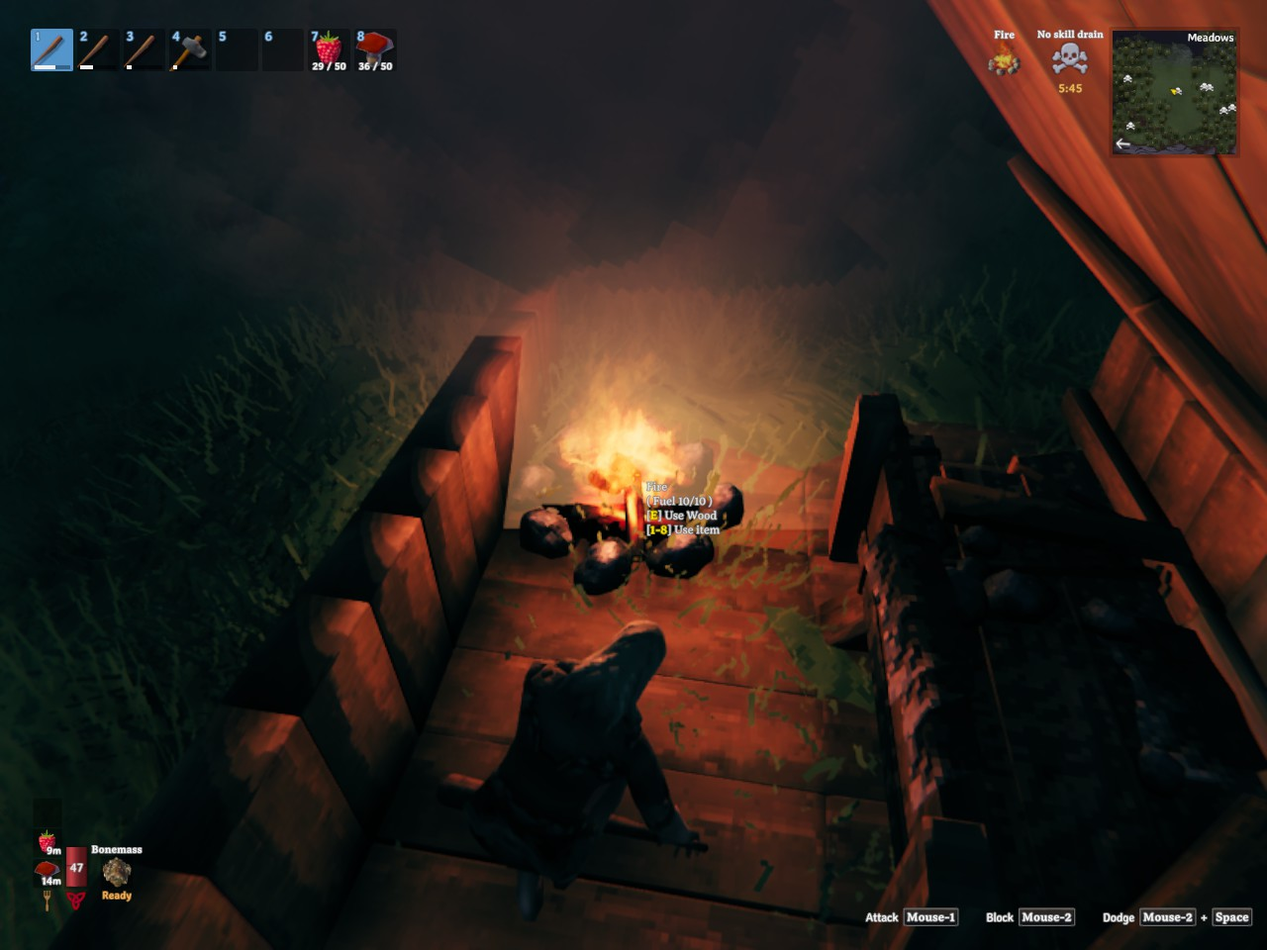Fire: (531, 422, 744, 554)
